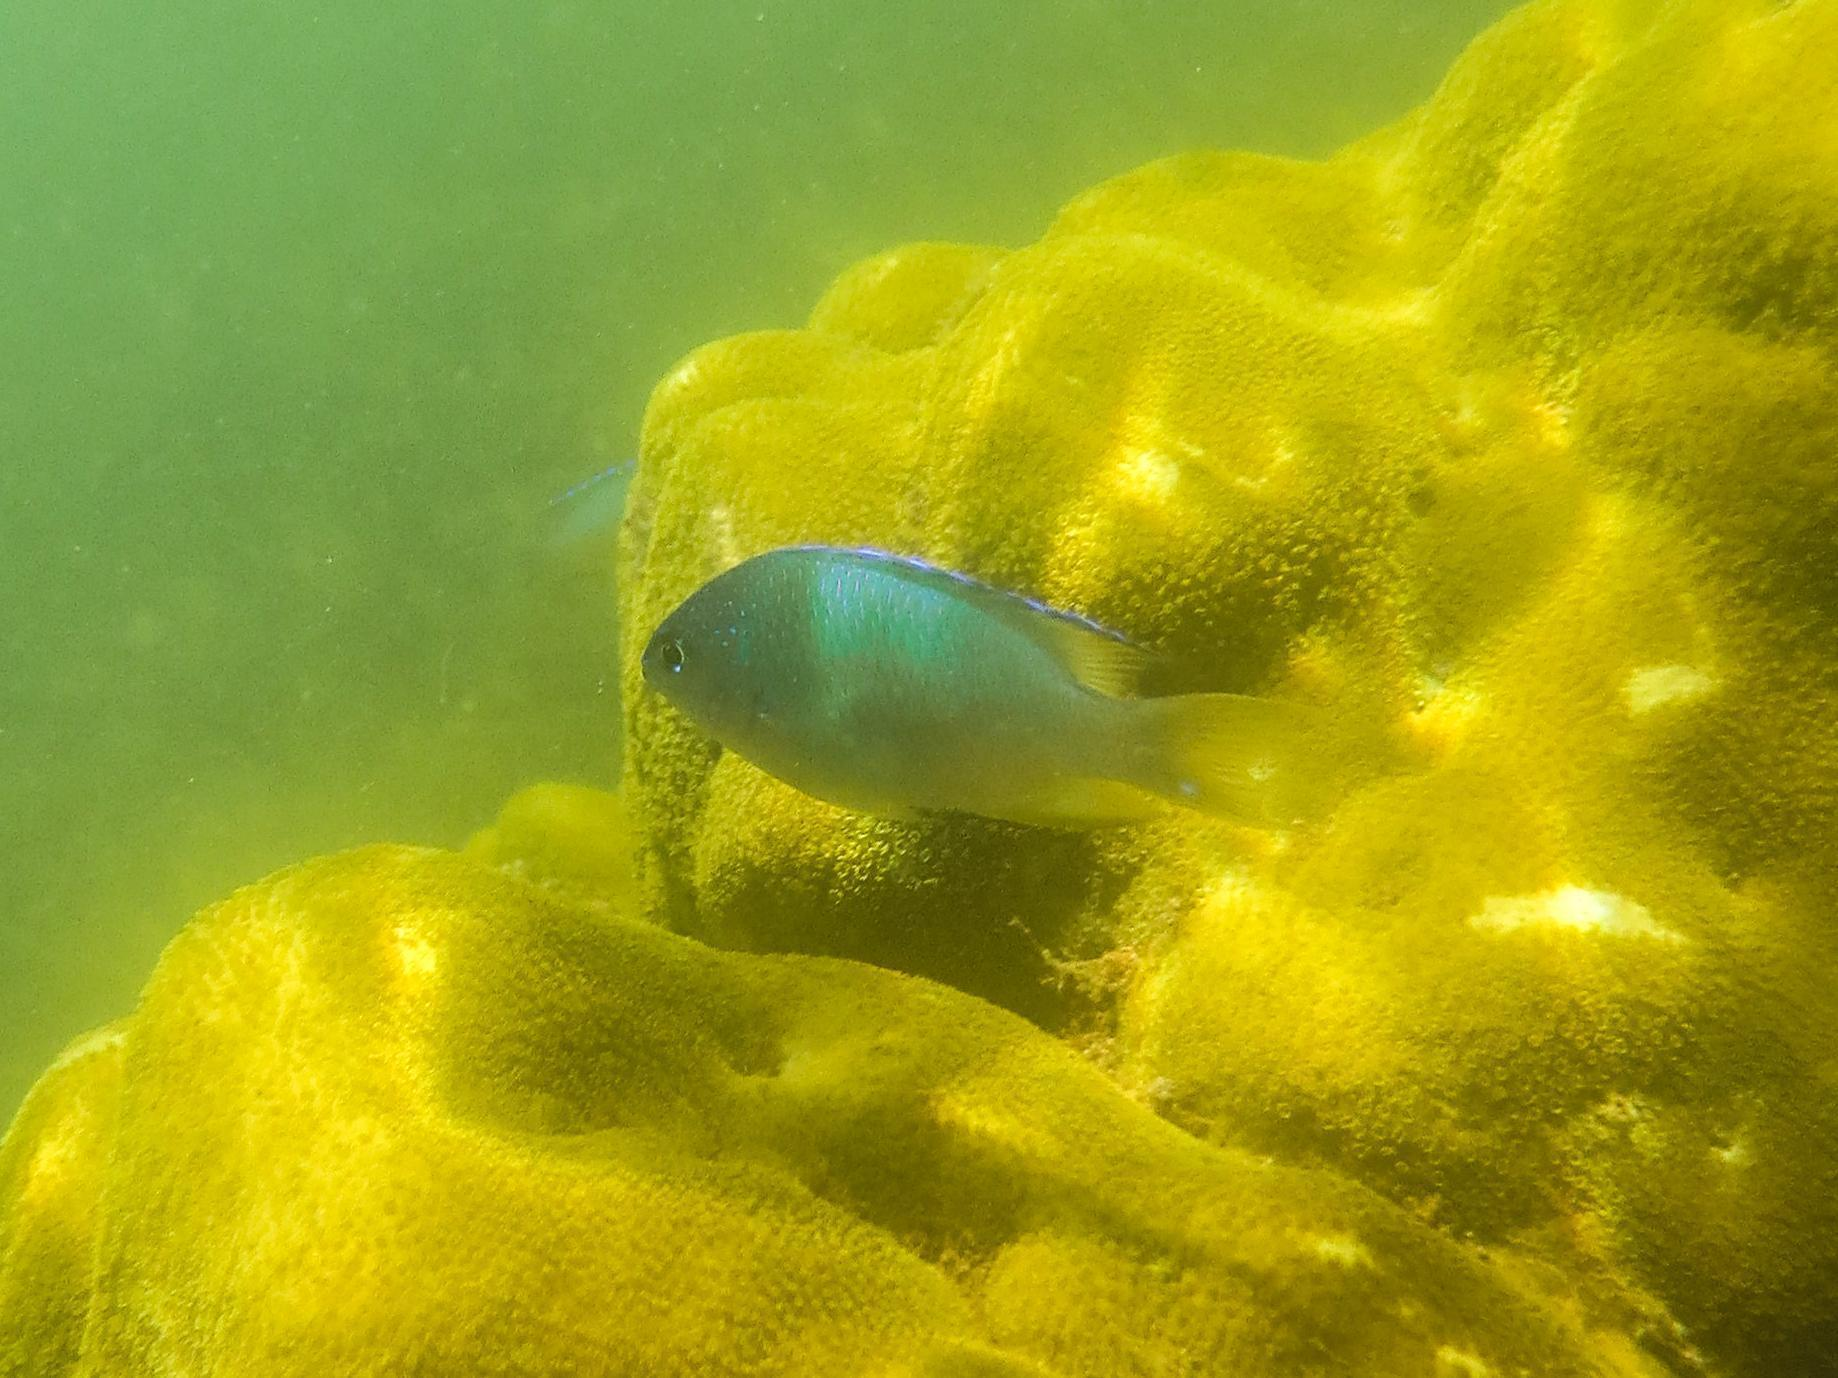Pomacentrus pavo: (612, 510, 1368, 921)
